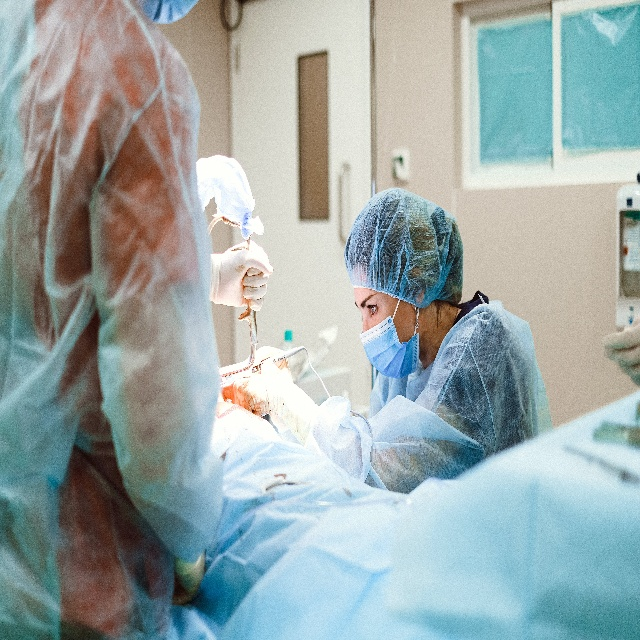Guantes: (209, 238, 273, 316), (228, 374, 268, 416)
Mascara: (358, 298, 420, 374)
